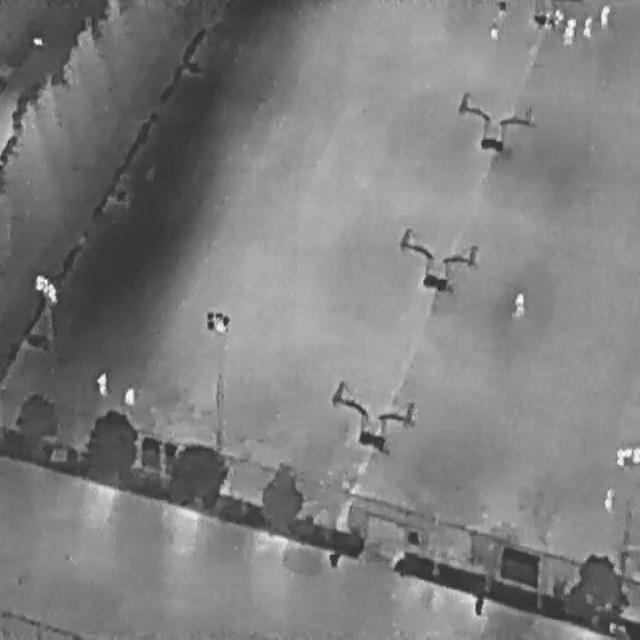Person: (92, 368, 106, 398), (599, 2, 609, 32), (514, 292, 524, 318), (551, 8, 564, 28), (122, 385, 134, 406), (561, 25, 573, 45), (495, 0, 508, 18), (582, 12, 591, 38), (603, 486, 612, 510), (489, 19, 498, 41), (616, 447, 625, 468), (631, 444, 639, 464), (542, 12, 551, 28), (567, 18, 576, 32), (622, 445, 631, 459)
